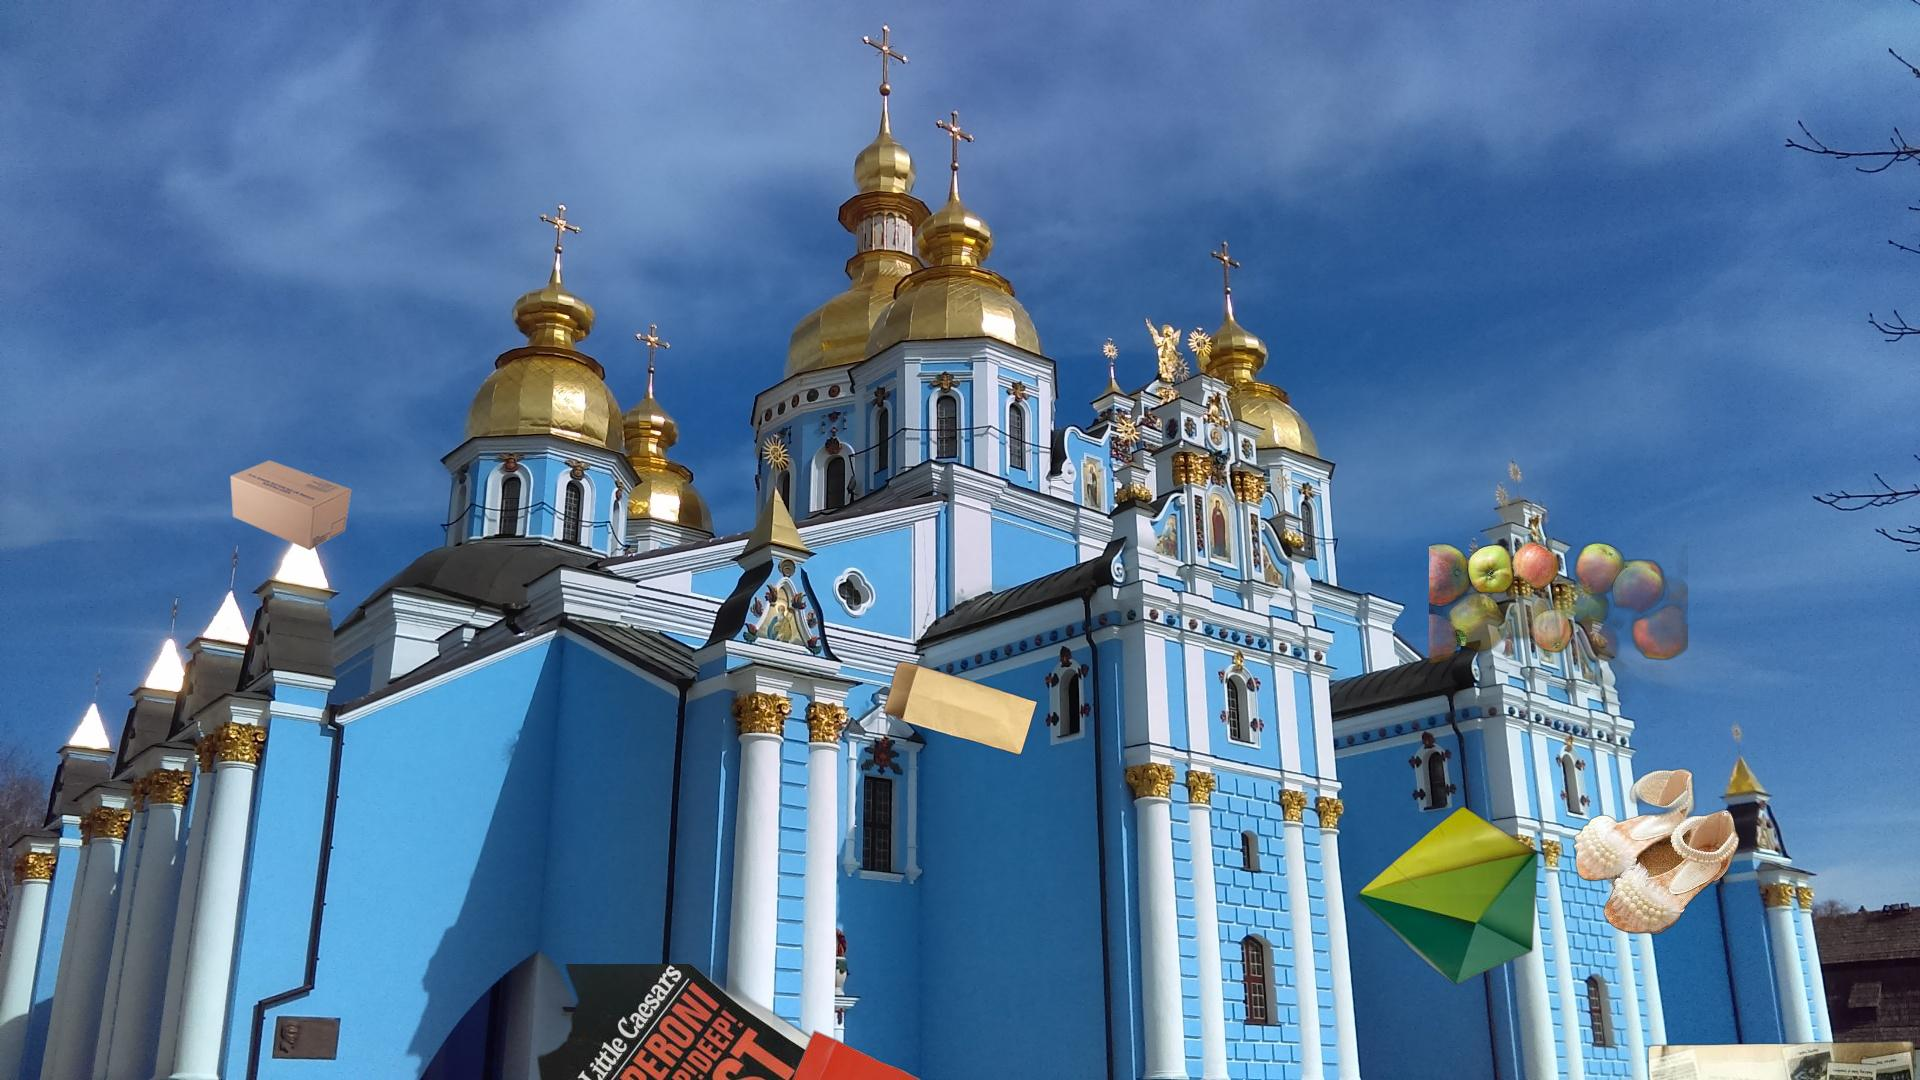biological: (1429, 535, 1688, 731)
paper: (345, 964, 857, 1080), (1352, 804, 1543, 988), (1643, 1038, 1920, 1080)
paper-bag: (881, 659, 1039, 757), (752, 1029, 969, 1080)
shoes: (1571, 766, 1742, 938)
trashbox-cardboard: (229, 460, 353, 551)
